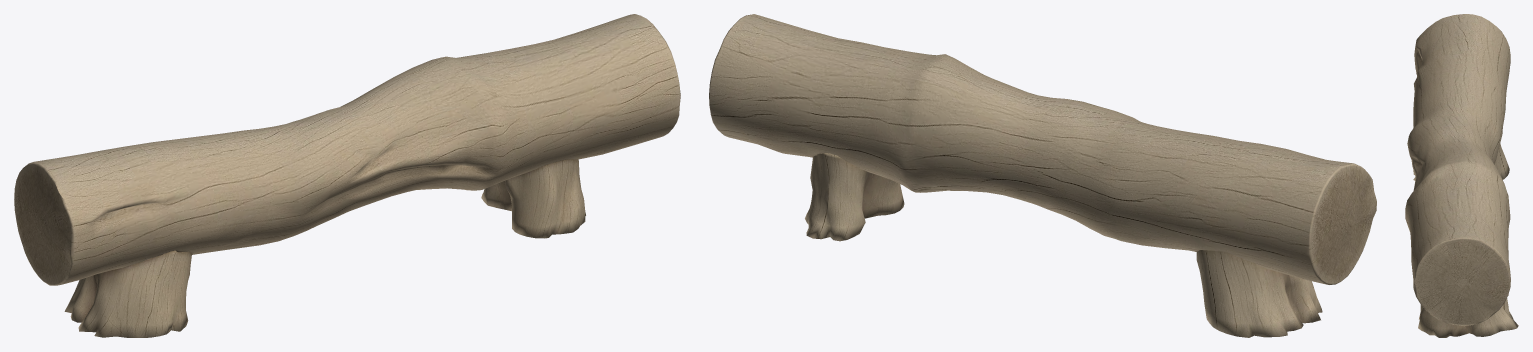
File: logbench.glb
3 renders of one model, left to right at view 1: azimuth 30°, elevation 25°; view 2: azimuth 150°, elevation 25°; view 3: azimuth 270°, elevation 25°, orthographic. The views are drawn at different scales.
Bounding box in the file's own units: 0.9546 × 0.2564 × 0.2002.
1 material, 1 textured.
